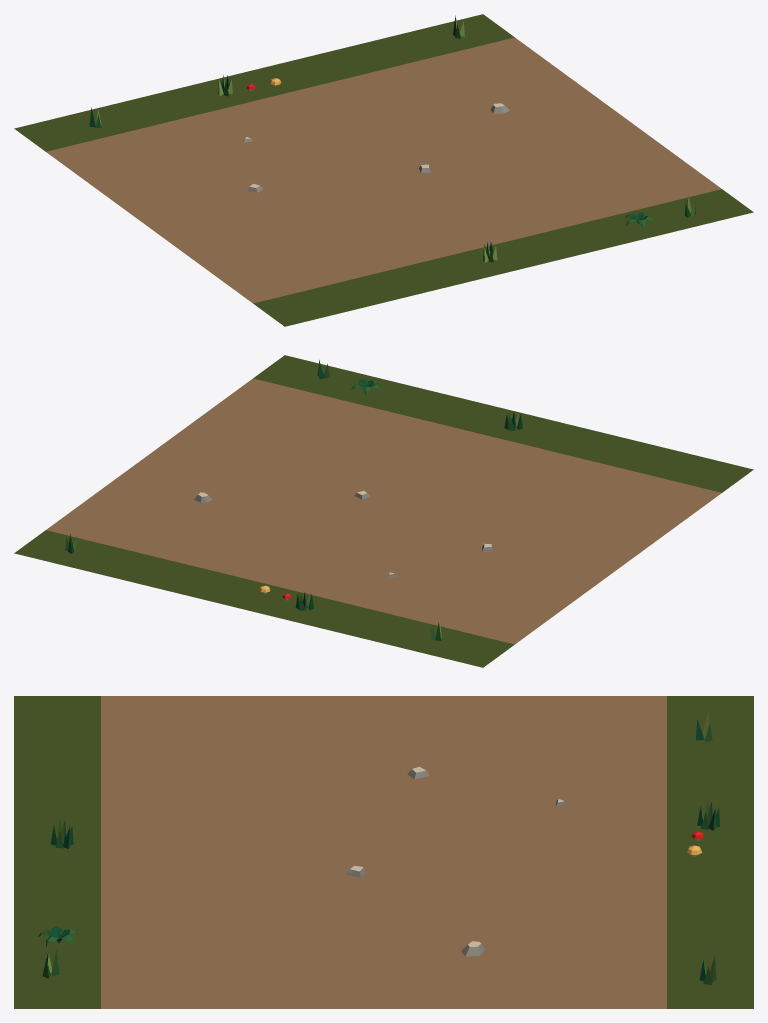
The model's file is TB_Env_GroundCB.FBX.
The picture shows the model from 3 angles, top to bottom: view 1: azimuth 30°, elevation 25°; view 2: azimuth 150°, elevation 25°; view 3: azimuth 270°, elevation 25°; orthographic projection. The views are drawn at different scales.
Visible parts, largest first — view 1: TB_Env_GroundCB; view 2: TB_Env_GroundCB; view 3: TB_Env_GroundCB.
Part boxes in pixels (left/top/right/bottom): TB_Env_GroundCB: left=14, top=14, right=753, bottom=326; TB_Env_GroundCB: left=14, top=355, right=753, bottom=667; TB_Env_GroundCB: left=14, top=696, right=753, bottom=1008.
Bounding box in the file's own units: 10 × 0.394 × 10.
